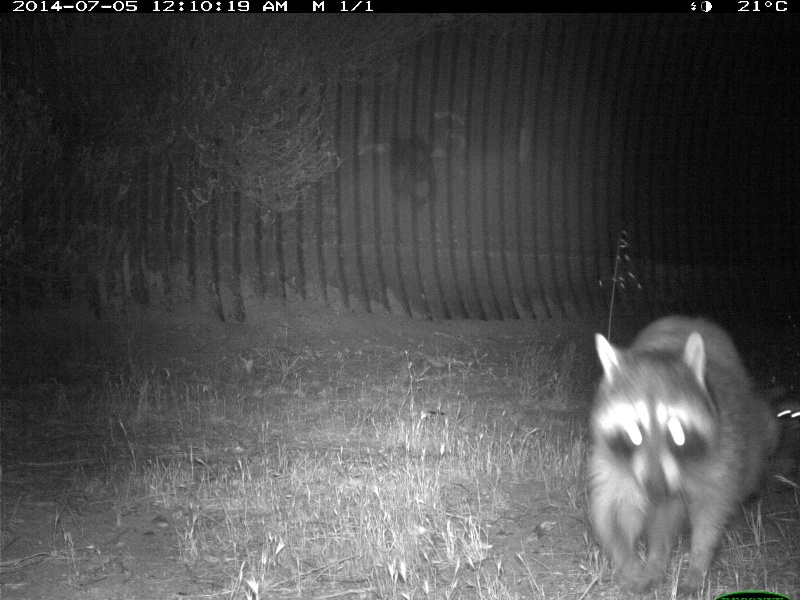raccoon: (584, 313, 781, 588)
